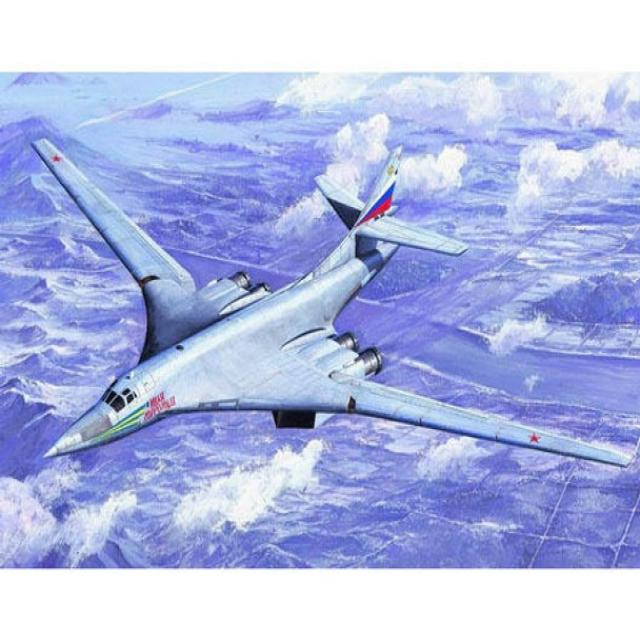Tu160: (16, 114, 640, 531)
